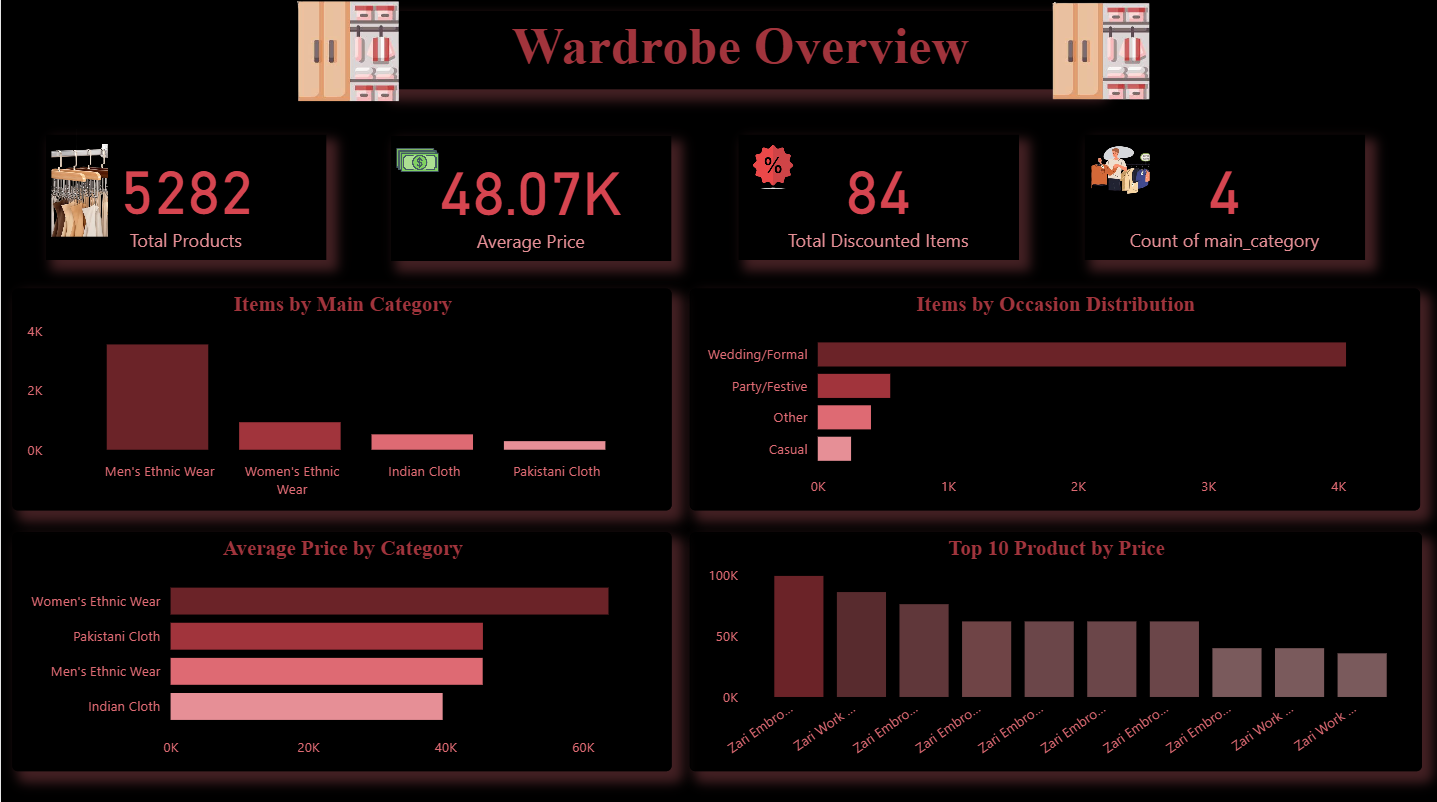

The page's visual inventory and layout, read from the dashboard file:
{"tool":"powerbi","page":{"name":"Wardrobe Overview","canvas":[1280,720],"ordinal":0},"visuals":[{"type":"card","fields":{"Values":["Count(Wardrobe Assistant.product_name)"]},"box":[39.8,123.5,249.7,111.1],"z":0},{"type":"card","fields":{"Values":["Avg(Wardrobe Assistant.price_pkr)"]},"box":[347.2,124.9,249.7,111.1],"z":1000},{"type":"card","fields":{"Values":["Count(Wardrobe Assistant.discount)"]},"box":[657.3,123.5,249.7,111.1],"z":2000},{"type":"card","fields":{"Values":["Count(Wardrobe Assistant.main_category)"]},"box":[964.7,123.5,249.7,111.1],"z":3000},{"type":"textbox","title":"Wardrobe Overview","box":[336.2,13.7,643.6,70],"z":4000},{"type":"columnChart","title":"Items by Main Category","fields":{"Category":["Wardrobe Assistant.main_category"],"Y":["Count(Wardrobe Assistant.product_name)"]},"box":[9.6,260.7,587.3,197.6],"z":5000},{"type":"clusteredBarChart","title":"Items by Occasion Distribution ","fields":{"Category":["Wardrobe Assistant.occasion"],"Y":["Count(Wardrobe Assistant.product_name)"]},"box":[613.4,260.7,650.4,197.6],"z":6000},{"type":"clusteredBarChart","title":"Average Price by Category","fields":{"Category":["Wardrobe Assistant.main_category"],"Y":["Avg(Wardrobe Assistant.price_pkr)"]},"box":[9.6,477.5,587.3,212.7],"z":7000},{"type":"clusteredColumnChart","title":"Top 10 Product by Price","fields":{"Category":["Wardrobe Assistant.product_name"],"Y":["Sum(Wardrobe Assistant.price_pkr)"]},"box":[613.4,477.5,651.8,212.7],"z":8000},{"type":"image","box":[258,0,102.9,98.8],"z":9000},{"type":"image","box":[931.7,0,96.1,98.8],"z":10000},{"type":"image","box":[657,126,62,53],"z":11000},{"type":"image","box":[347,126,47,41],"z":12000},{"type":"image","box":[40,114,60,106],"z":13000},{"type":"image","box":[966,123,62,69],"z":14000}]}

Visuals, with their boxes in screenshot pixels (x1, y1, x2, y2), scaled from the page's 1280x720 canvas onto the 1437x802 screenshot:
card - Count(Wardrobe Assistant.product_name): left=45, top=138, right=325, bottom=261
card - Avg(Wardrobe Assistant.price_pkr): left=390, top=139, right=670, bottom=263
card - Count(Wardrobe Assistant.discount): left=738, top=138, right=1018, bottom=261
card - Count(Wardrobe Assistant.main_category): left=1083, top=138, right=1363, bottom=261
"Wardrobe Overview" textbox: left=377, top=15, right=1100, bottom=93
"Items by Main Category" columnChart: left=11, top=290, right=670, bottom=510
"Items by Occasion Distribution " clusteredBarChart: left=689, top=290, right=1419, bottom=510
"Average Price by Category" clusteredBarChart: left=11, top=532, right=670, bottom=769
"Top 10 Product by Price" clusteredColumnChart: left=689, top=532, right=1420, bottom=769
image: left=290, top=0, right=405, bottom=110
image: left=1046, top=0, right=1154, bottom=110
image: left=738, top=140, right=807, bottom=199
image: left=390, top=140, right=442, bottom=186
image: left=45, top=127, right=112, bottom=245
image: left=1084, top=137, right=1154, bottom=214
